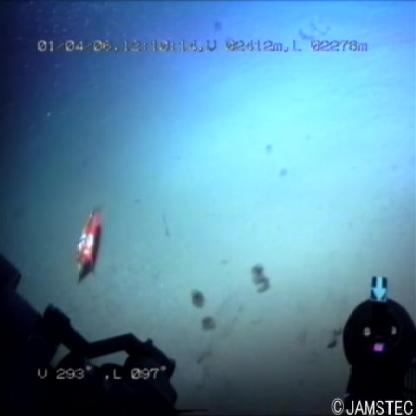Rov: (4, 252, 181, 416), (337, 271, 415, 415)
Rác: (66, 201, 107, 284)
